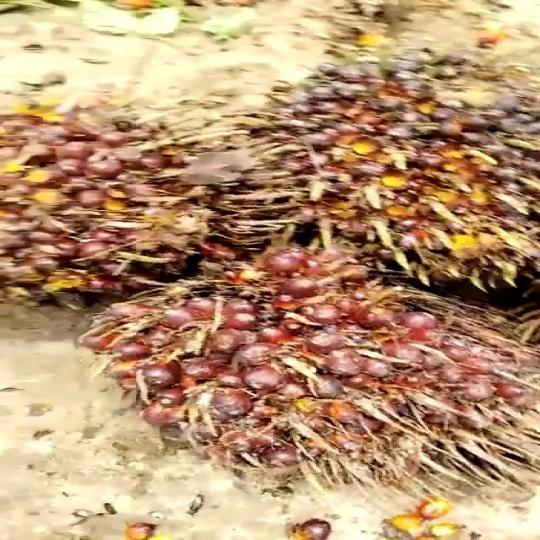masak: (95, 244, 540, 501), (240, 65, 540, 305), (0, 102, 245, 306)
